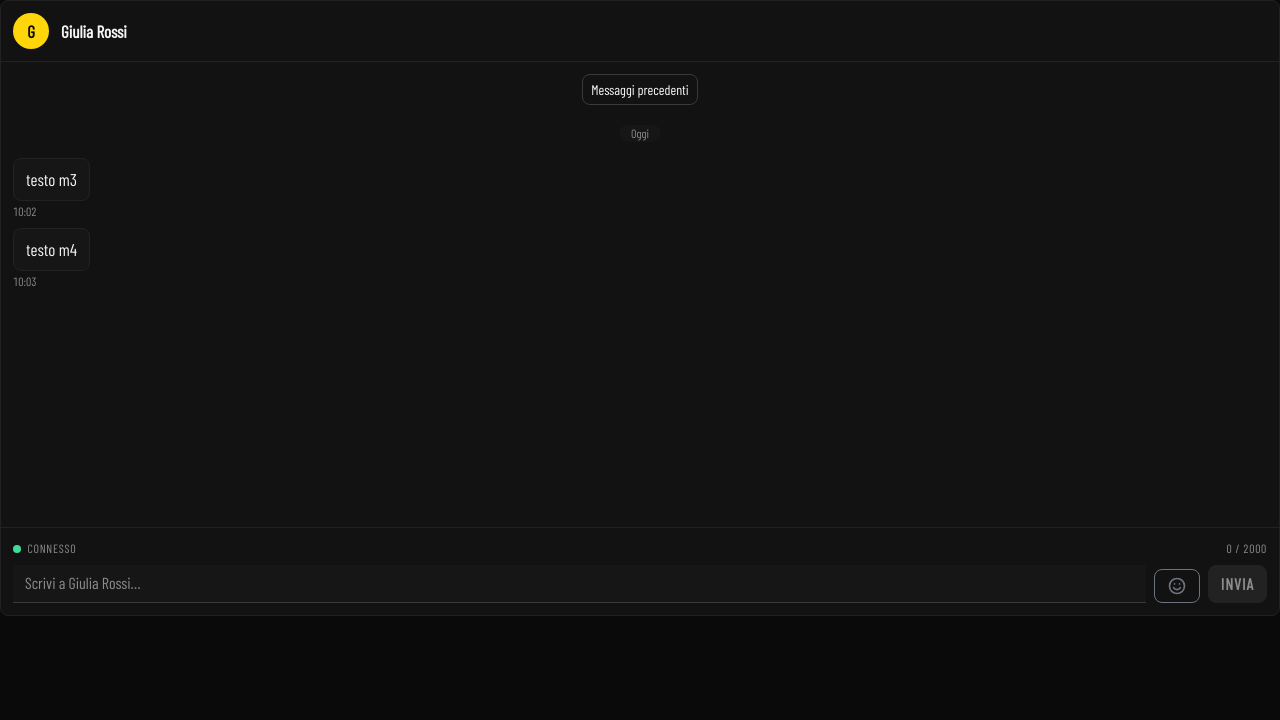
Test: ConversationView · storico › «Messaggi precedenti» carica con before l’id del messaggio più vecchio e li mette sopra, senza buchi
The image size is (1280, 720).
Expected: the text "testo m4" is shown, [26,239,77,259]
Click the button "Messaggi precedenti" at (640, 90), box [582,74,698,105]
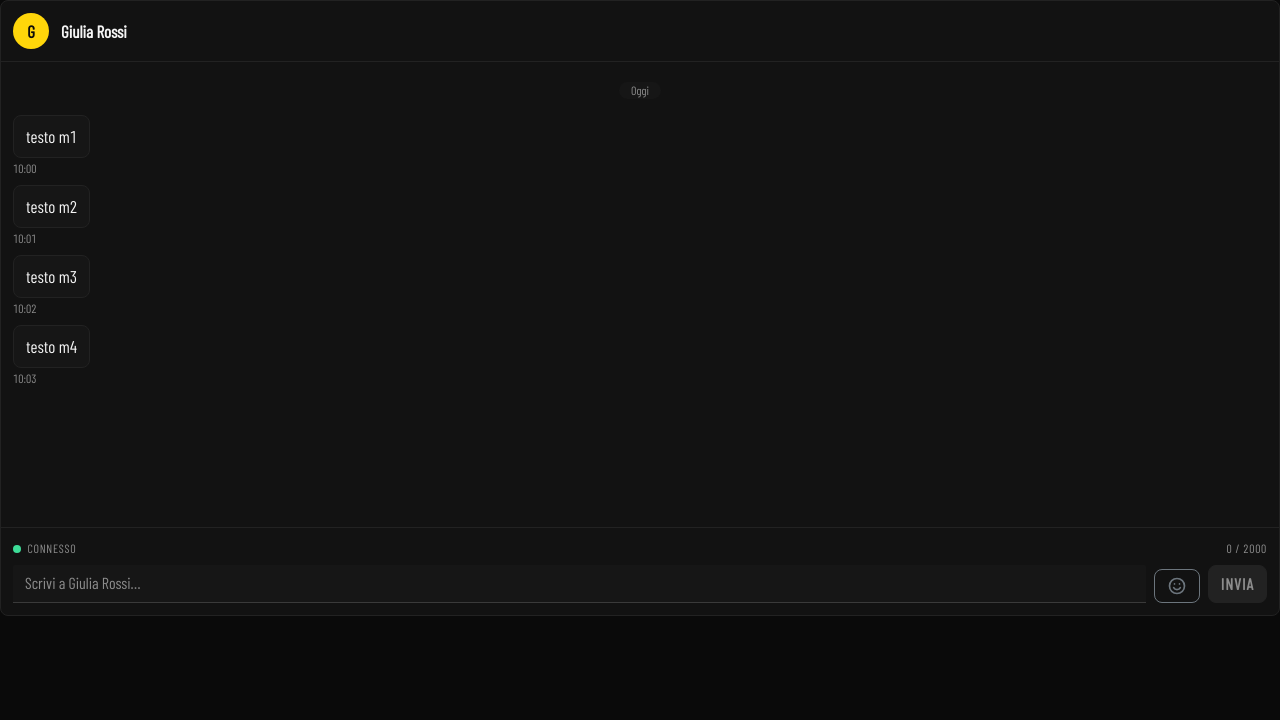
Result: the text "testo m1" is shown at [26,126,77,146]
Result: the button "Messaggi precedenti" is gone
